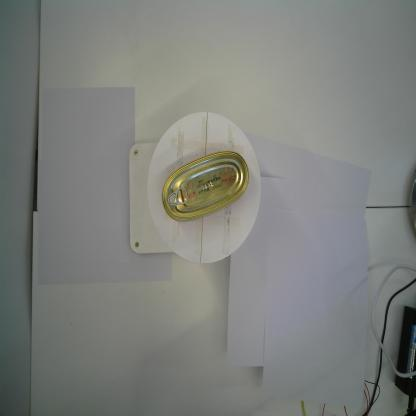Canned Food: (160, 148, 250, 224)
